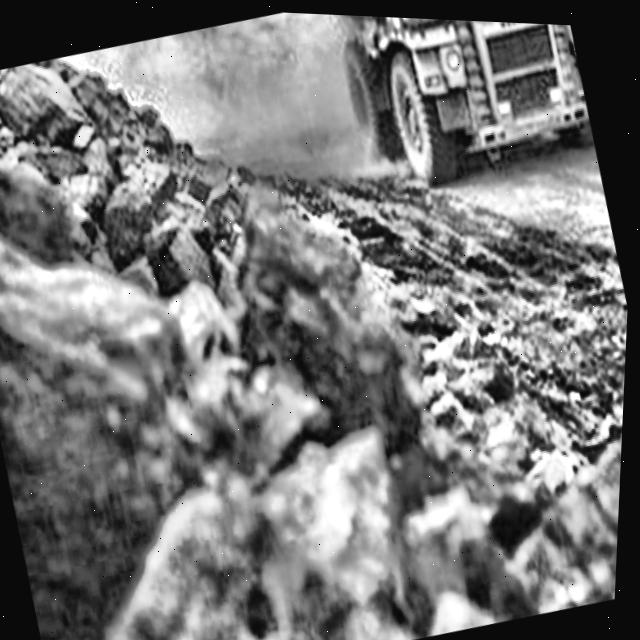dump_truck: (304, 11, 600, 203)
